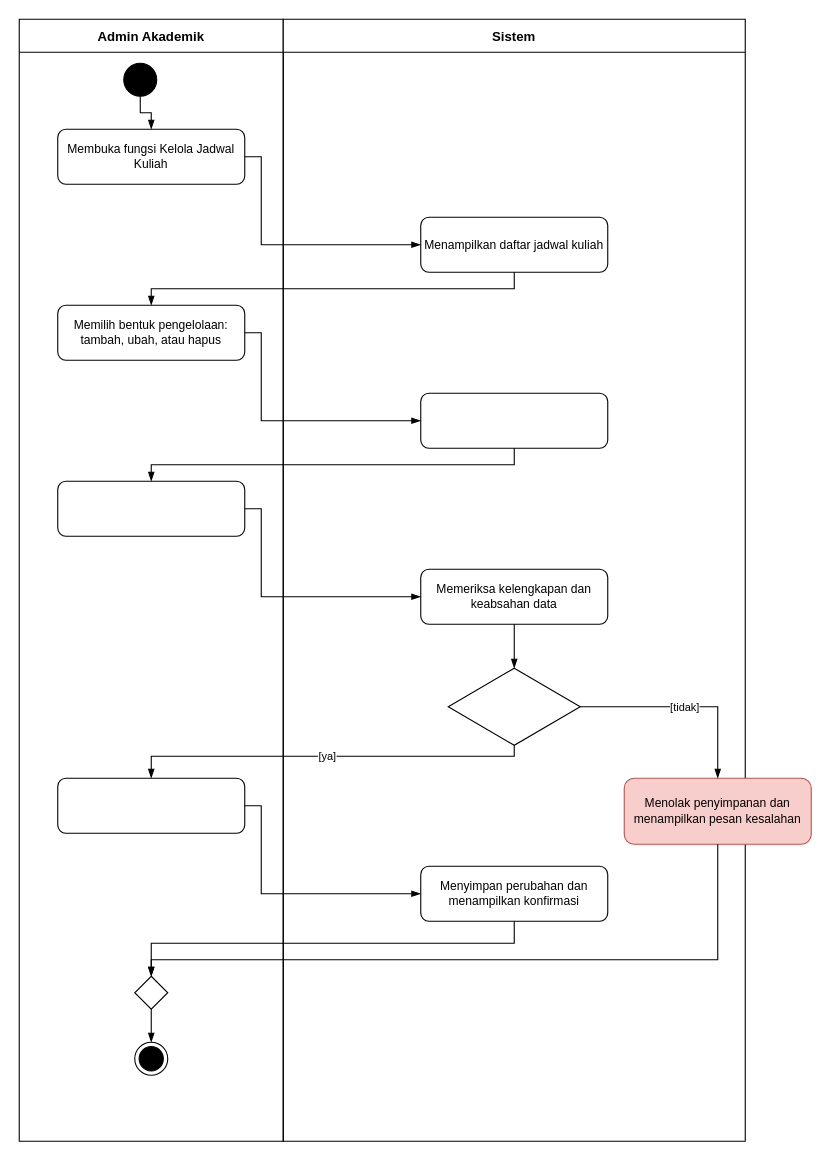
Image size: 831x1161. Some labels were removed from this diagram. The shapes that lost their labels are listed below. From the top down, each one's centre as x and y in pixels, then its label:
the point at 514,420: Menampilkan formulir sesuai bentuk pengelolaan
the point at 151,508: Mengisi atau mengonfirmasi data jadwal
the point at 513,706: Data valid?
the point at 151,805: Menyimpan perubahan
